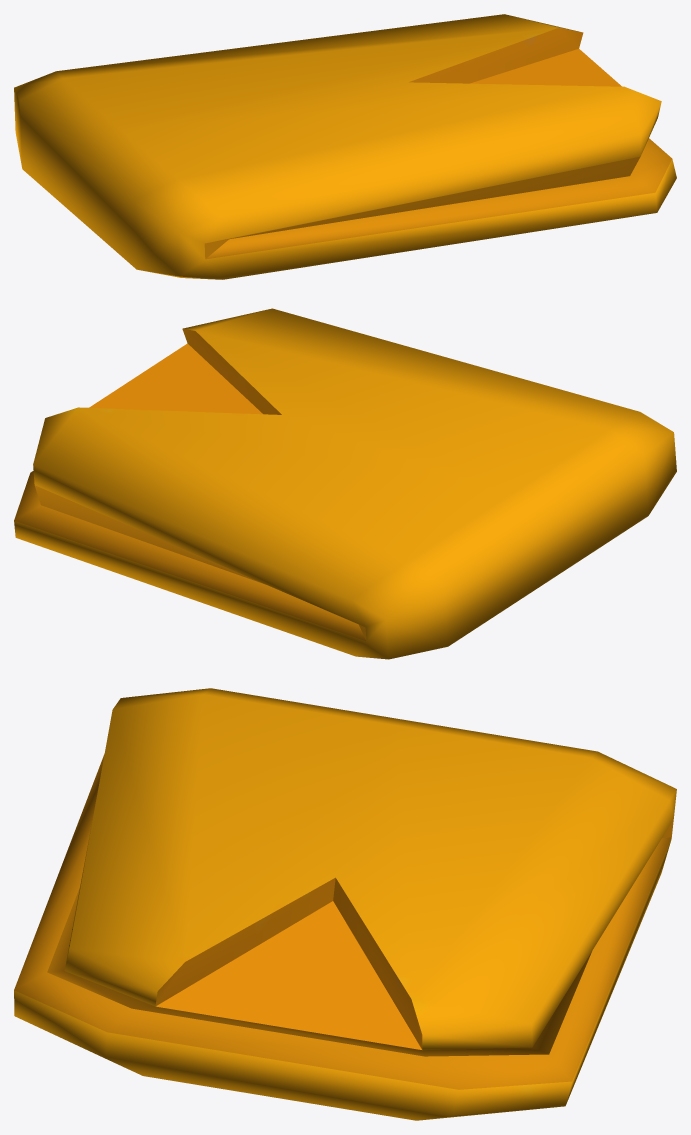
File: TshirtIroned.fbx
3 renders of one model, top to bottom at view 1: azimuth 30°, elevation 25°; view 2: azimuth 150°, elevation 25°; view 3: azimuth 270°, elevation 25°, orthographic. The views are drawn at different scales.
Parts seen in each view (by area): view 1: TshirtIroned; view 2: TshirtIroned; view 3: TshirtIroned.
Part boxes in pixels (x1,y1,x2,y2): TshirtIroned: [14, 14, 676, 279]; TshirtIroned: [14, 308, 676, 659]; TshirtIroned: [14, 688, 676, 1120].
Bounding box in the file's own units: 93.15 × 20.44 × 82.5.
